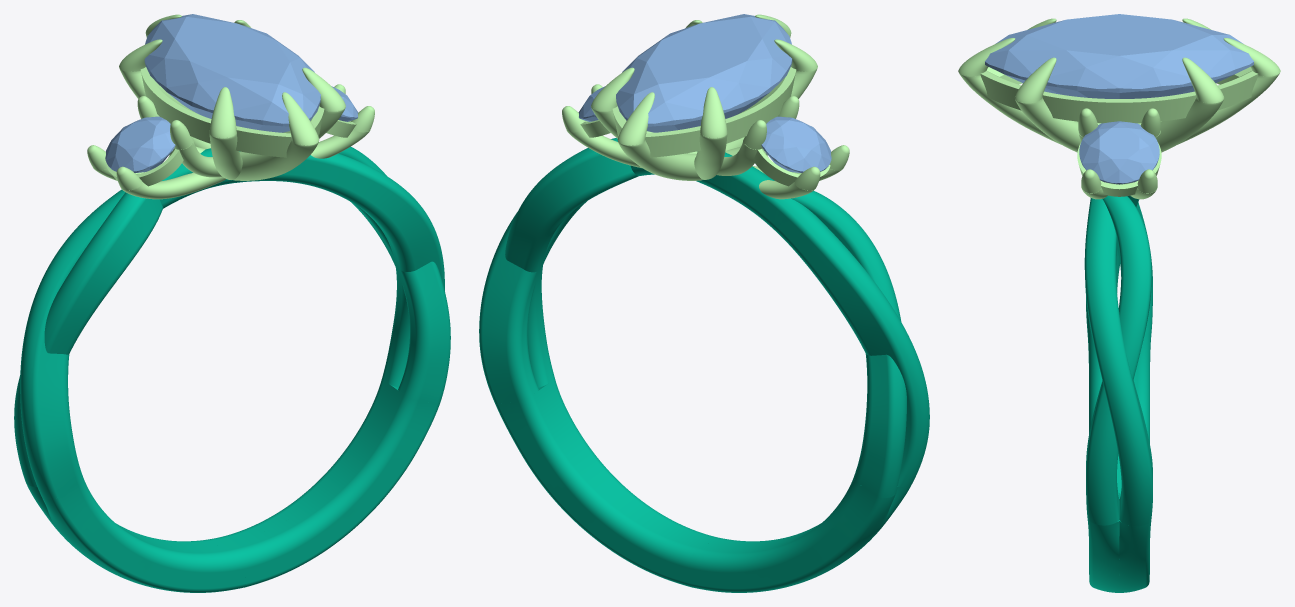
3 renders of one model, left to right at view 1: azimuth 30°, elevation 25°; view 2: azimuth 150°, elevation 25°; view 3: azimuth 270°, elevation 25°, orthographic.
Visible parts, largest first — view 1: vr622.3dm, Diamond_Marquise, Bezel (×2), Diamond_Round; view 2: vr622.3dm, Diamond_Marquise, Bezel (×2), Diamond_Round; view 3: vr622.3dm, Diamond_Marquise, Bezel (×2), Diamond_Round.
Part boxes in pixels (x1,y1,x2,y2): vr622.3dm: (14, 14, 450, 592); Diamond_Marquise: (144, 14, 320, 132); Bezel (×2): (106, 67, 324, 186); Diamond_Round: (105, 116, 175, 172); vr622.3dm: (479, 14, 929, 592); Diamond_Marquise: (616, 14, 792, 132); Bezel (×2): (612, 67, 830, 186); Diamond_Round: (761, 116, 831, 172); vr622.3dm: (958, 18, 1280, 592); Diamond_Marquise: (985, 14, 1253, 98); Bezel (×2): (980, 67, 1258, 196); Diamond_Round: (1079, 121, 1159, 184).
Size of the model in its own units: 2.39 by 2.82 by 1.54.
